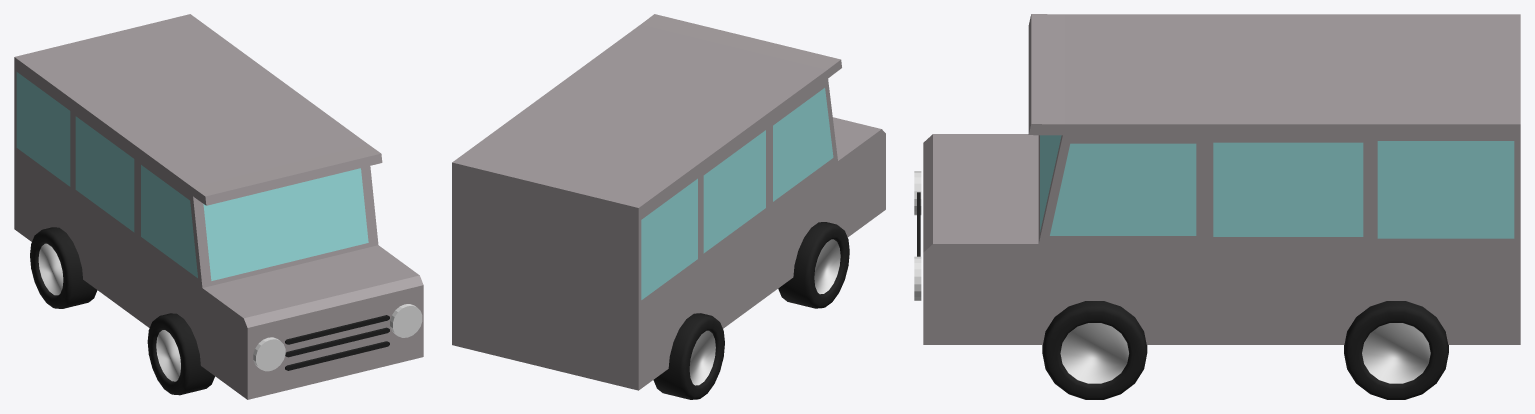
File: Car_1.fbx
3 views of the same model, side by side, from view 1: azimuth 30°, elevation 25°; view 2: azimuth 150°, elevation 25°; view 3: azimuth 270°, elevation 25° (orthographic). The views are drawn at different scales.
Parts seen in each view (by area): view 1: Cylinder.031; view 2: Cylinder.031; view 3: Cylinder.031.
Part boxes in pixels (bbox=[...]): Cylinder.031: bbox=[14, 14, 423, 399]; Cylinder.031: bbox=[452, 14, 885, 399]; Cylinder.031: bbox=[914, 14, 1520, 399].
Size of the model in its own units: 273 by 273 by 554.
